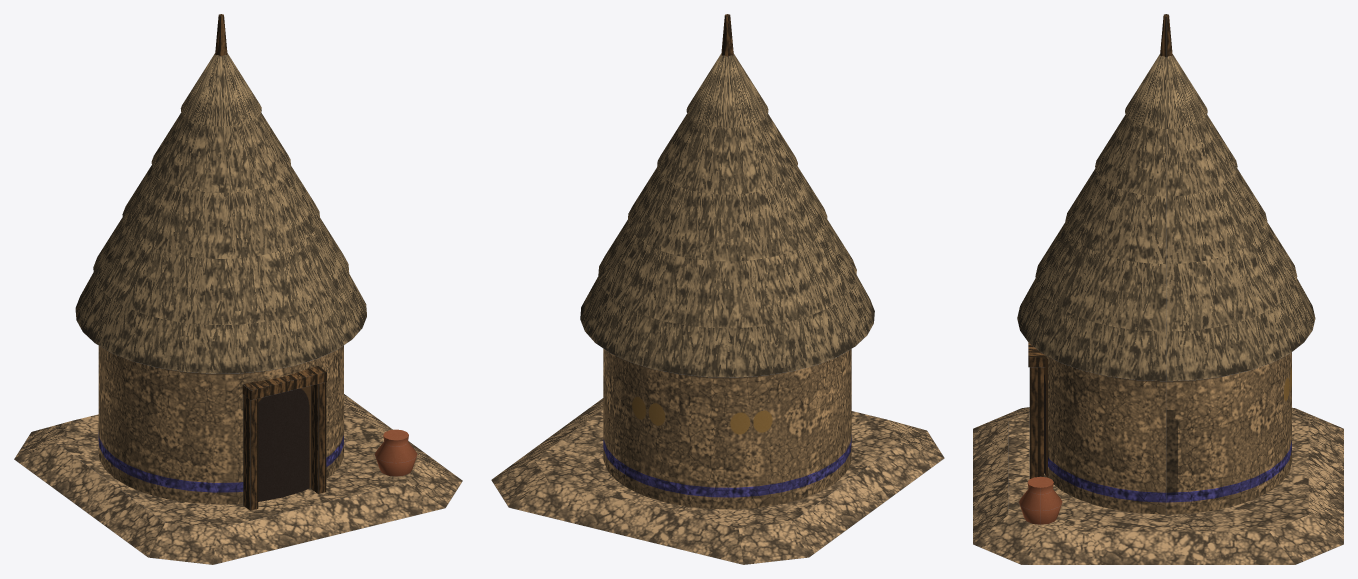
File: africanhousesubsaharan.glb
The picture shows the model from 3 angles, left to right: view 1: azimuth 30°, elevation 25°; view 2: azimuth 150°, elevation 25°; view 3: azimuth 270°, elevation 25°; orthographic projection. The views are drawn at different scales.
Parts seen in each view (by area): view 1: AfricanHouseSubSaharan; view 2: AfricanHouseSubSaharan; view 3: AfricanHouseSubSaharan.
Part boxes in pixels (x1,y1,x2,y2): AfricanHouseSubSaharan: (14, 14, 462, 564); AfricanHouseSubSaharan: (491, 14, 944, 564); AfricanHouseSubSaharan: (973, 14, 1343, 564).
Size of the model in its own units: 8.03 by 11.1 by 8.03.
Materials: 1 (1 with a texture image).
